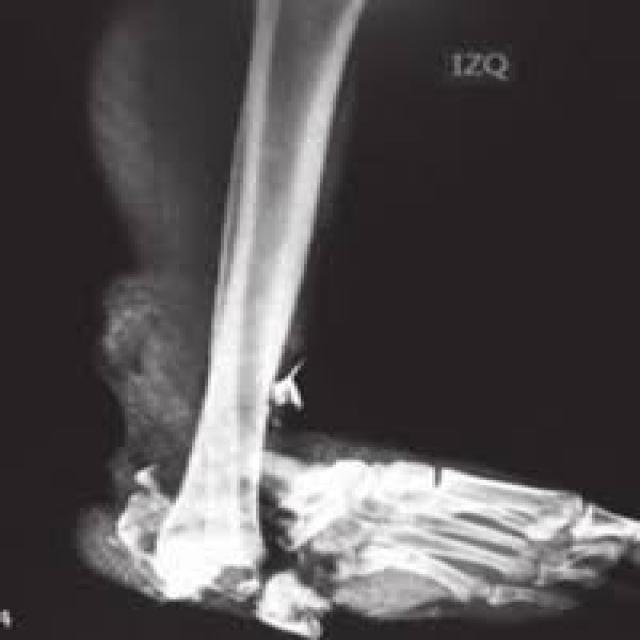comminuted: (107, 338, 350, 640)
